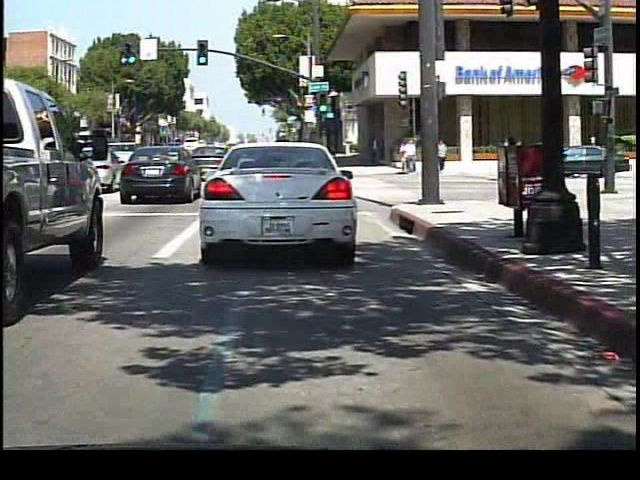person: (499, 134, 520, 175), (401, 136, 418, 178), (437, 135, 451, 171)
